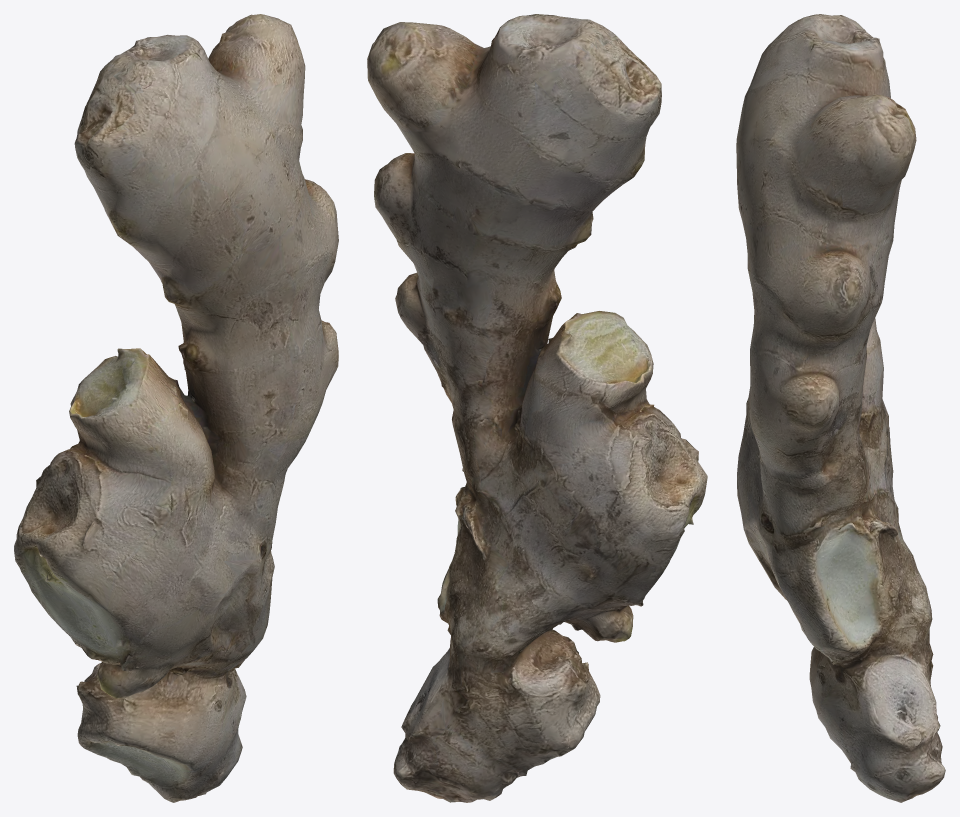
The model's file is ginger.glb.
The picture shows the model from 3 angles, left to right: view 1: azimuth 30°, elevation 25°; view 2: azimuth 150°, elevation 25°; view 3: azimuth 270°, elevation 25°; orthographic projection. The views are drawn at different scales.
Parts seen in each view (by area): view 1: food_ginger_01; view 2: food_ginger_01; view 3: food_ginger_01.
Boxes of the visible parts, box(x1,y1,x2,y2) form: food_ginger_01: box(14, 14, 338, 802); food_ginger_01: box(367, 14, 707, 802); food_ginger_01: box(736, 14, 945, 802).
Size of the model in its own units: 0.2399 by 0.5746 by 0.1474.
Materials: 1 (1 with a texture image).
